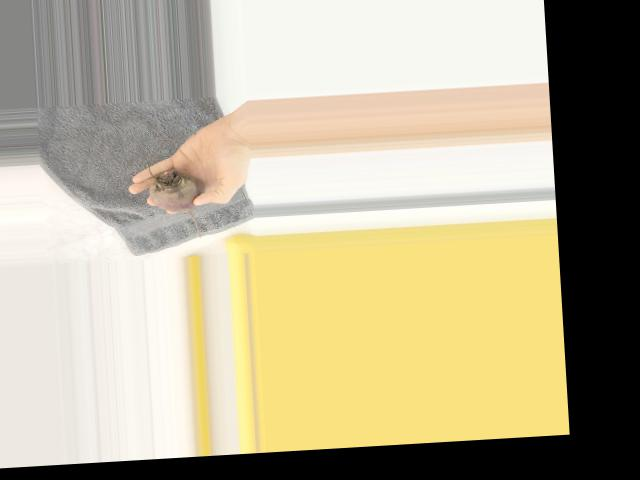beet: (148, 167, 207, 240)
